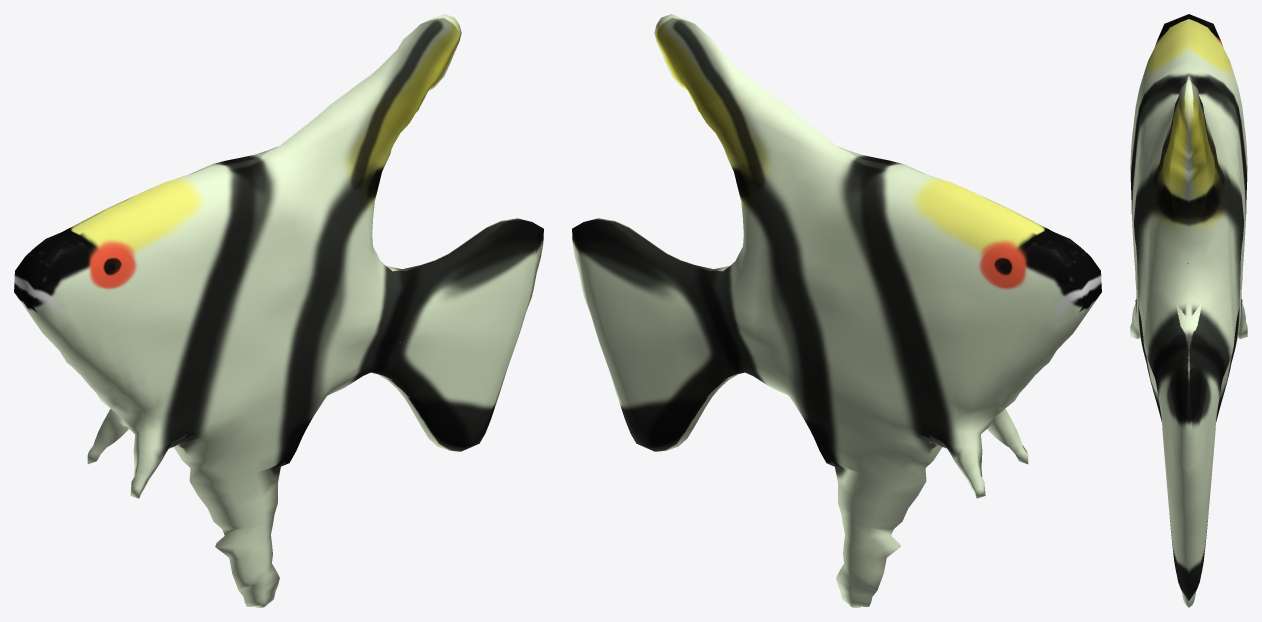
Rendered from Pez_Angel.fbx.
3 renders of one model, left to right at view 1: azimuth 30°, elevation 25°; view 2: azimuth 150°, elevation 25°; view 3: azimuth 270°, elevation 25°, orthographic. The views are drawn at different scales.
Visible parts, largest first — view 1: Plane; view 2: Plane; view 3: Plane.
Part boxes in pixels (box(x1,y1,x2,y2)): Plane: box(14, 14, 543, 607); Plane: box(572, 14, 1101, 607); Plane: box(1130, 14, 1247, 607).
Bounding box in the file's own units: 598 × 603 × 103.
